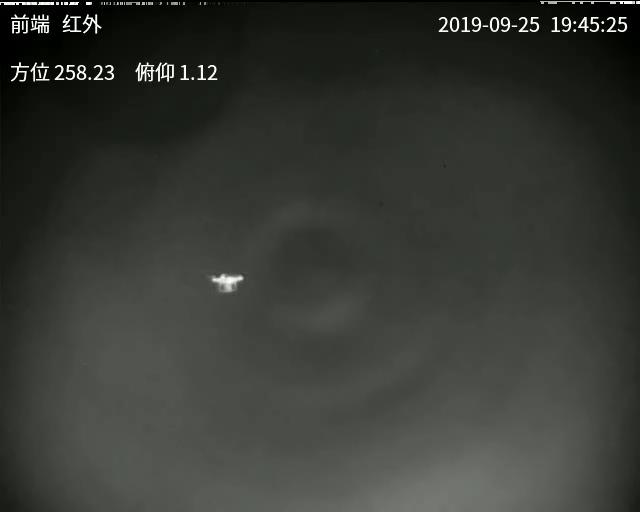uav: (210, 267, 245, 298)
